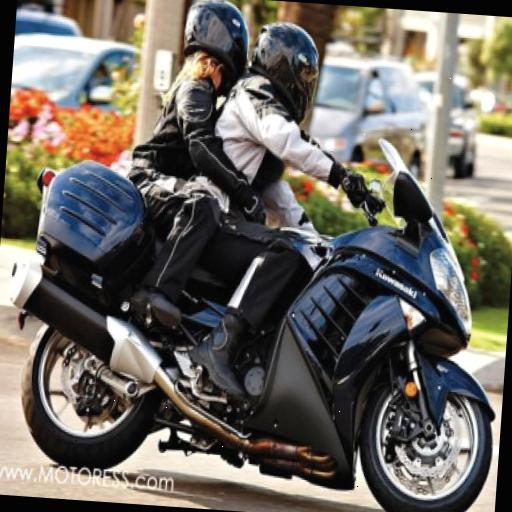helmet: (191, 0, 512, 507)
